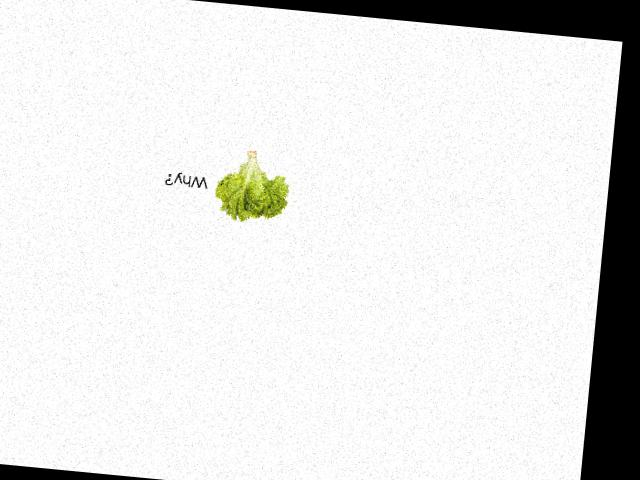lettuce: (206, 145, 294, 226)
